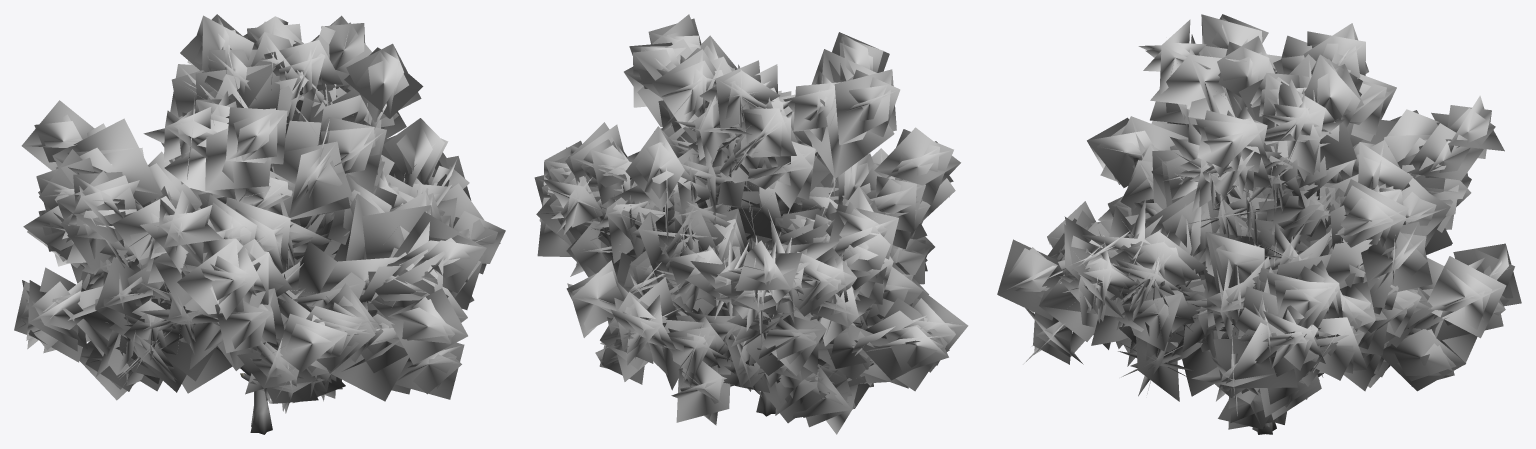
Rendered from MapleBigLeaf_E.fbx.
3 views of the same model, side by side, from view 1: azimuth 30°, elevation 25°; view 2: azimuth 150°, elevation 25°; view 3: azimuth 270°, elevation 25° (orthographic). The views are drawn at different scales.
Parts seen in each view (by area): view 1: MapleBigLeaf_E_LOD0; view 2: MapleBigLeaf_E_LOD0; view 3: MapleBigLeaf_E_LOD0.
Part boxes in pixels (x1,y1,x2,y2): MapleBigLeaf_E_LOD0: (14, 14, 505, 434); MapleBigLeaf_E_LOD0: (534, 14, 968, 434); MapleBigLeaf_E_LOD0: (997, 14, 1521, 434).
Size of the model in its own units: 2792 by 2296 by 2730.
